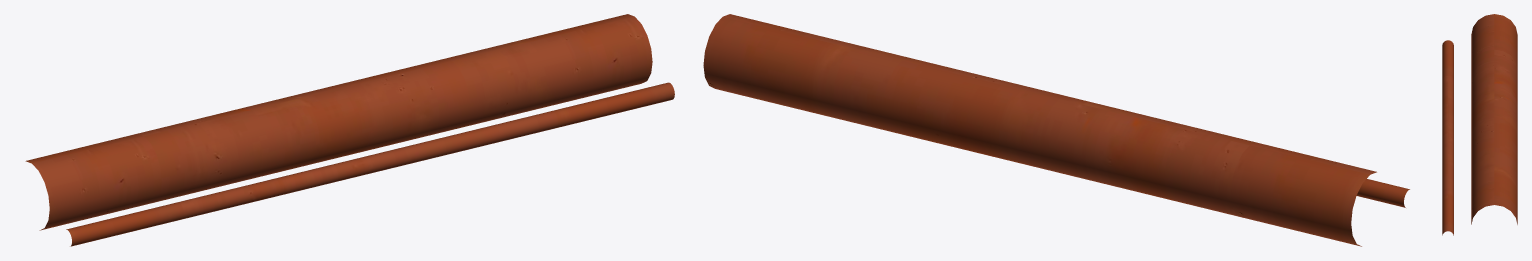
3 renders of one model, left to right at view 1: azimuth 30°, elevation 25°; view 2: azimuth 150°, elevation 25°; view 3: azimuth 270°, elevation 25°, orthographic. The views are drawn at different scales.
Parts seen in each view (by area): view 1: body0_model0_lod0_mesh0; view 2: body0_model0_lod0_mesh0; view 3: body0_model0_lod0_mesh0.
Boxes of the visible parts, x1,y1,x2,y2 form: body0_model0_lod0_mesh0: (25,14,674,246); body0_model0_lod0_mesh0: (703,14,1409,246); body0_model0_lod0_mesh0: (1442,14,1517,235).
Size of the model in its own units: 156 by 16 by 25.99.
Materials: 1 (1 with a texture image).
